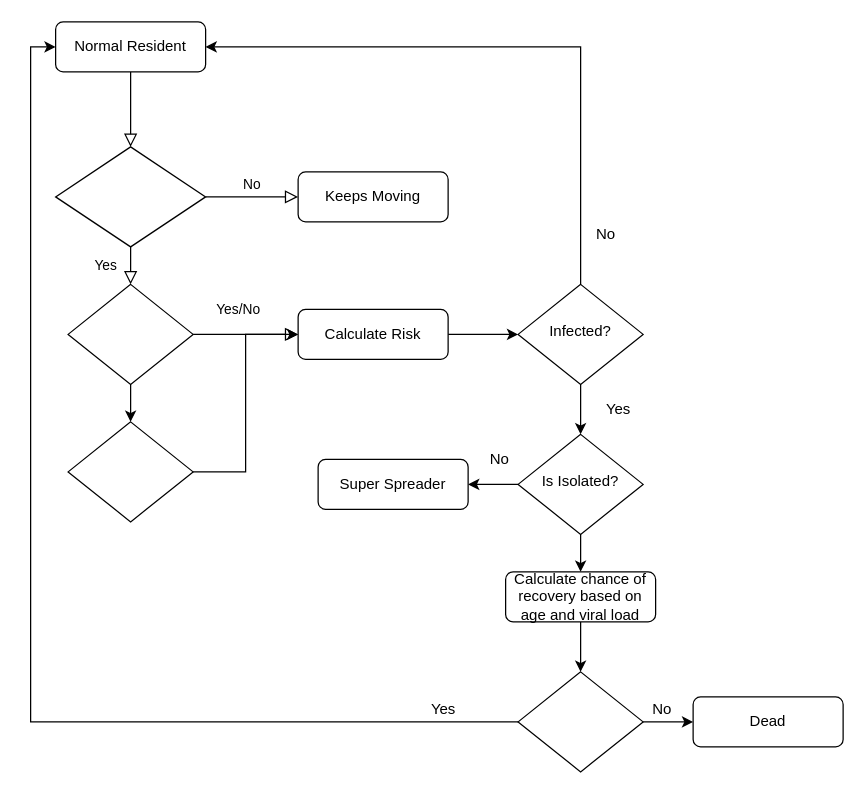
Image size: 865x794. Some labels were removed from this diagram. Each missing label, with the centre of its shape:
Contact with infected Resident?: point 130,196
Is Recovered?: point 580,721
Vaccinated?: point 130,471
Wear Mask?: point 130,333
